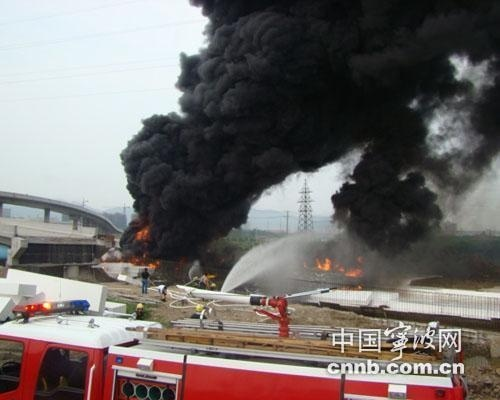fire: (315, 255, 365, 282)
